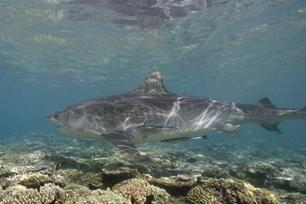Shark -Selachimorpha-: (39, 67, 306, 164)
